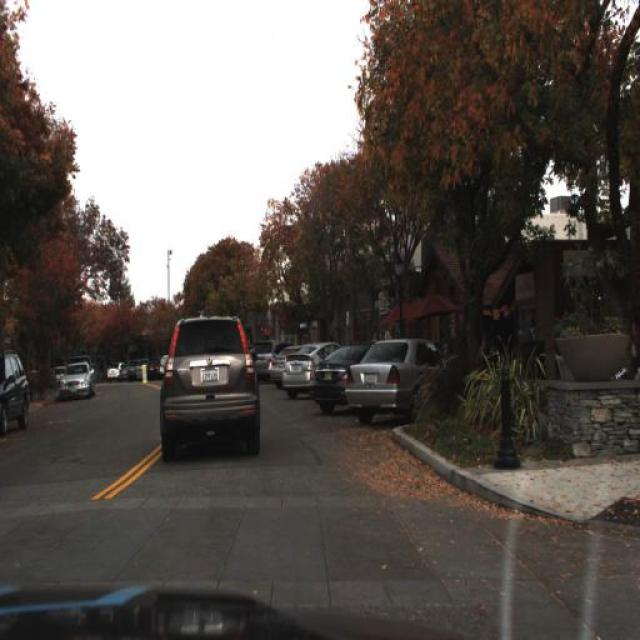car: (153, 308, 264, 462), (348, 342, 438, 421), (309, 348, 367, 412), (0, 348, 29, 442), (284, 342, 330, 398), (248, 338, 278, 388), (57, 357, 94, 397), (247, 338, 275, 381), (270, 346, 288, 388), (106, 362, 122, 382)
